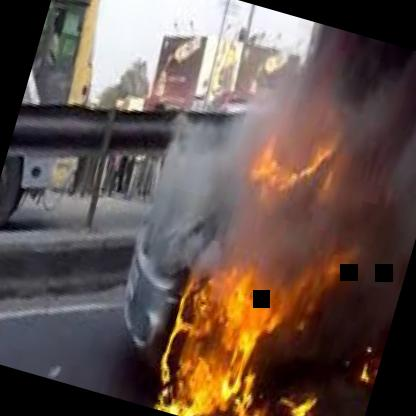fire: (160, 109, 400, 416)
